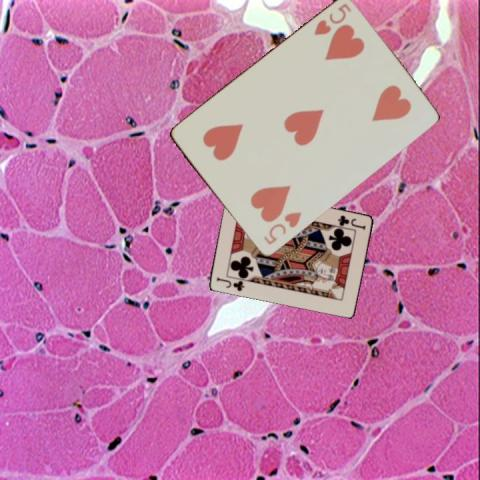5h: (260, 208, 303, 246), (311, 1, 352, 37)
Jc: (335, 212, 367, 231), (214, 274, 246, 293)
